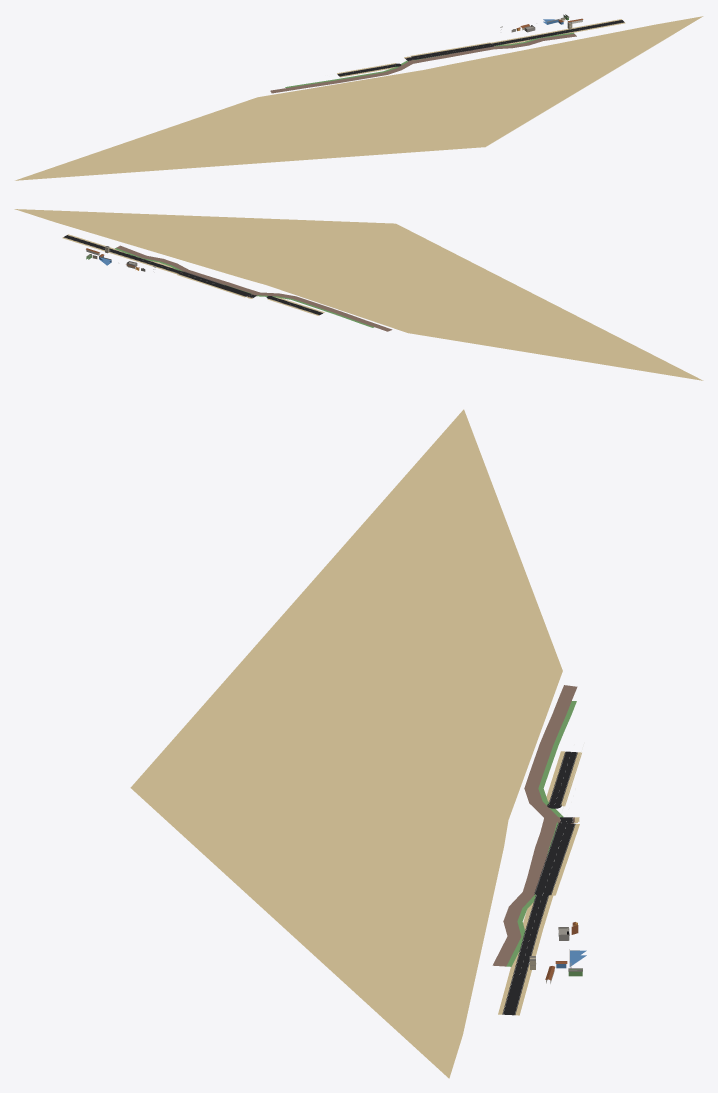
The model's file is zone_t-5_-1.glb.
3 renders of one model, top to bottom at view 1: azimuth 30°, elevation 25°; view 2: azimuth 150°, elevation 25°; view 3: azimuth 270°, elevation 25°, orthographic. The views are drawn at different scales.
Parts seen in each view (by area): view 1: zone_plage_t-5_-1, promenade_t-5_-1, route_secondary_bitume_t-5_-1, accotement_t-5_-1, piste_cyclable_t-5_-1; view 2: zone_plage_t-5_-1, promenade_t-5_-1, route_secondary_bitume_t-5_-1, accotement_t-5_-1, piste_cyclable_t-5_-1; view 3: zone_plage_t-5_-1, promenade_t-5_-1, route_secondary_bitume_t-5_-1, accotement_t-5_-1, piste_cyclable_t-5_-1.
Boxes of the visible parts, x1,y1,x2,y2 form: zone_plage_t-5_-1: (15, 16, 703, 180); promenade_t-5_-1: (270, 33, 576, 93); route_secondary_bitume_t-5_-1: (337, 20, 624, 76); accotement_t-5_-1: (337, 19, 625, 77); piste_cyclable_t-5_-1: (285, 32, 573, 87); zone_plage_t-5_-1: (14, 209, 703, 380); promenade_t-5_-1: (116, 245, 392, 331); route_secondary_bitume_t-5_-1: (63, 235, 322, 315); accotement_t-5_-1: (62, 234, 324, 315); piste_cyclable_t-5_-1: (114, 248, 374, 327); zone_plage_t-5_-1: (130, 409, 562, 1078); promenade_t-5_-1: (492, 685, 577, 966); route_secondary_bitume_t-5_-1: (502, 751, 577, 1015); accotement_t-5_-1: (498, 751, 581, 1015); piste_cyclable_t-5_-1: (506, 701, 576, 966).
Bounding box in the file's own units: 907 × 9.9 × 262.
